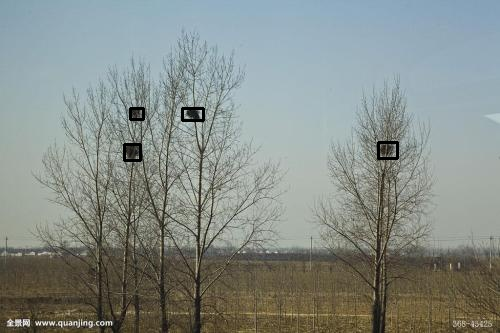bird-nest: (378, 142, 397, 158), (124, 144, 140, 160), (182, 108, 203, 120), (130, 108, 143, 119)
